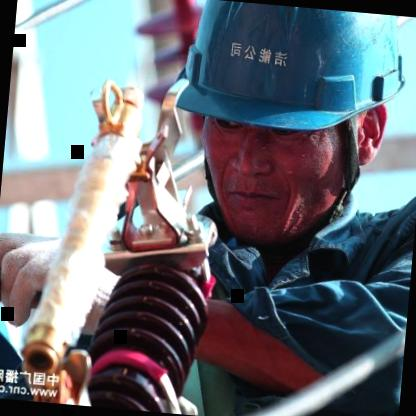helmet: (146, 2, 410, 260)
